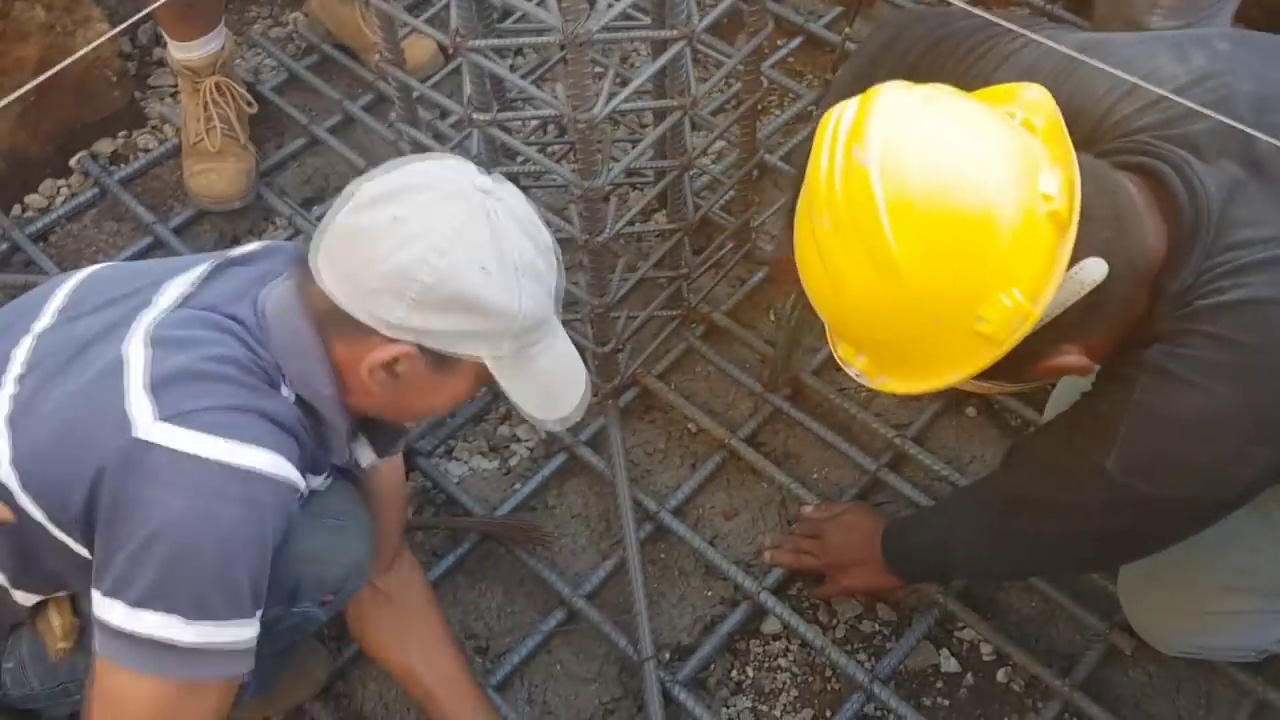helmet: (782, 81, 1101, 407)
helmet-off: (306, 149, 587, 442)
helmet-on: (782, 69, 1190, 415)
person: (3, 147, 590, 720), (781, 8, 1280, 616)
